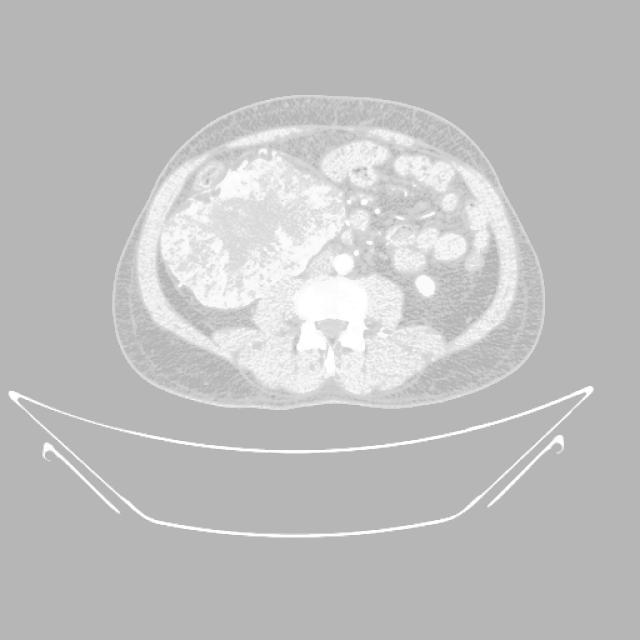TUMOR: (216, 155, 505, 310)
